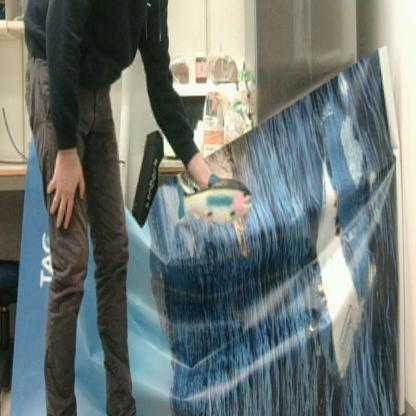rubberfish: (176, 173, 255, 225)
